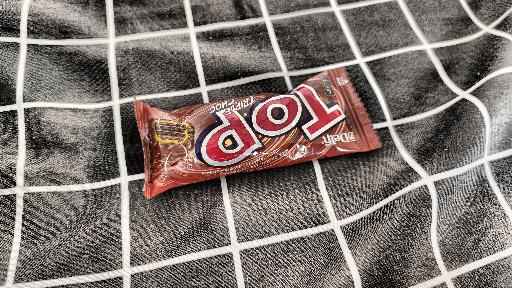top: (110, 79, 399, 192)
